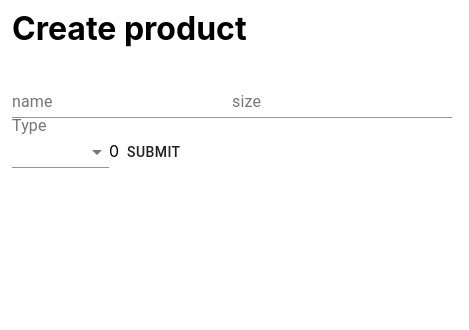
Test case: When the user submits the form correctly › the form page must display the success message and clean the fields values.
The width and height of the screenshot is (469, 330).
Type "my product" into the field labelled "name" at (122, 102), box x1=12 y1=86 x2=232 y2=118
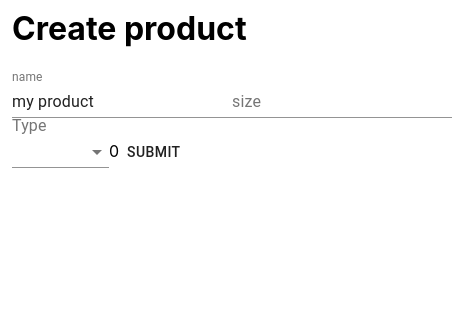
Type "10" into the field labelled "size" at (342, 102), box x1=232 y1=86 x2=452 y2=118
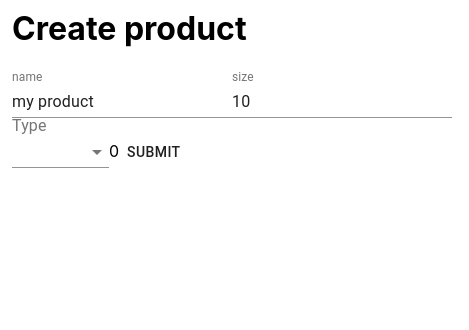
Select "Electronic" in the dropdown labelled "Type" at (60, 152), box x1=12 y1=136 x2=109 y2=168
Click the button "Submit" at (154, 152), box x1=119 y1=134 x2=188 y2=170
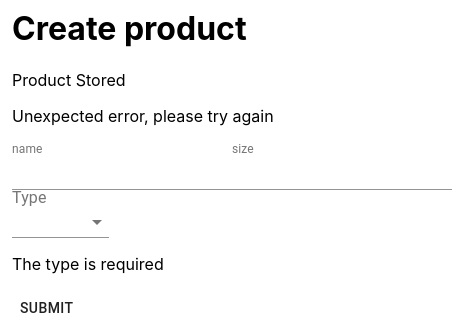
Expected: the field labelled "size" is empty, x1=232 y1=158 x2=452 y2=190
Expected: the text "Product Stored" is shown, x1=12 y1=70 x2=126 y2=90
Expected: the field labelled "name" is empty, x1=12 y1=158 x2=232 y2=190
